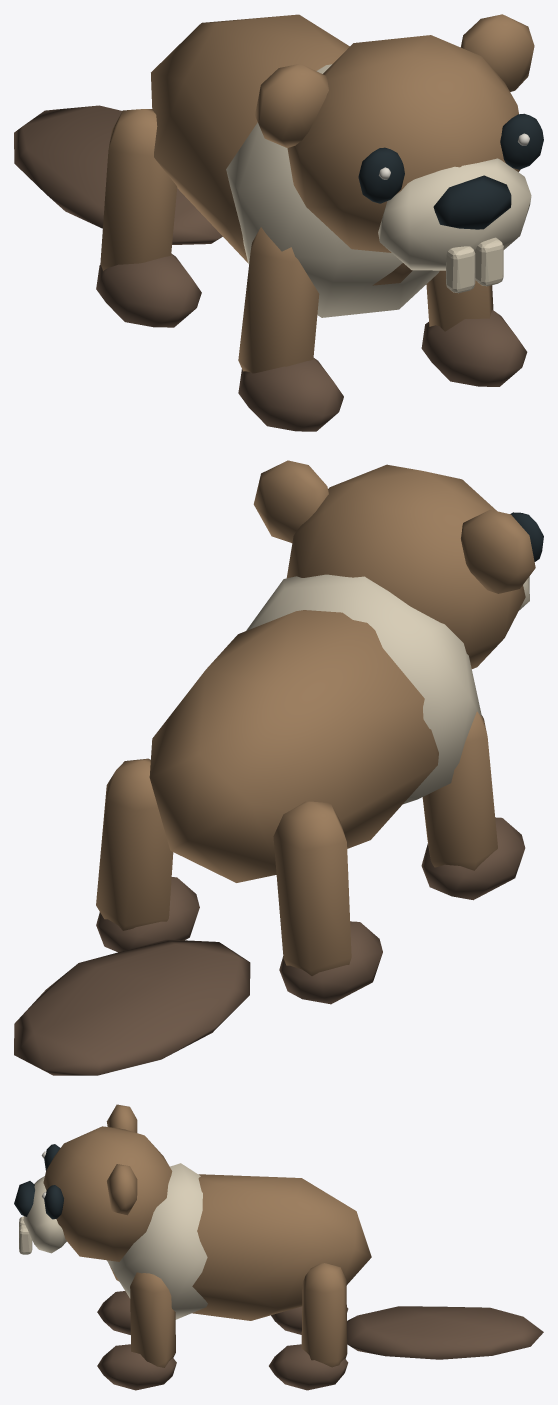
Rendered from org_beaver.glb.
3 views of the same model, one above another, from view 1: azimuth 30°, elevation 25°; view 2: azimuth 150°, elevation 25°; view 3: azimuth 270°, elevation 25° (orthographic). The views are drawn at different scales.
Parts seen in each view (by area): view 1: Head, Body, Leg_BR, Leg_FR, Tail, Leg_FL, Eye_R, Eye_L; view 2: Body, Head, Tail, Leg_BR, Leg_BL, Leg_FR; view 3: Body, Head, Tail, Leg_BL, Leg_FL, Leg_FR, Leg_BR, Eye_L.
Part boxes in pixels (<box>): Head: <box>255,14,534,293</box>; Body: <box>151,14,439,317</box>; Leg_BR: <box>96,109,201,327</box>; Leg_FR: <box>238,227,343,431</box>; Tail: <box>14,105,222,244</box>; Leg_FL: <box>421,270,527,386</box>; Eye_R: <box>358,147,404,203</box>; Eye_L: <box>500,113,543,169</box>; Body: <box>149,574,481,882</box>; Head: <box>253,460,535,668</box>; Tail: <box>14,939,250,1075</box>; Leg_BR: <box>273,801,382,1004</box>; Leg_BL: <box>96,758,199,952</box>; Leg_FR: <box>421,711,525,900</box>; Body: <box>107,1163,371,1320</box>; Head: <box>14,1104,172,1261</box>; Tail: <box>347,1306,543,1359</box>; Leg_BL: <box>269,1263,348,1390</box>; Leg_FL: <box>97,1272,176,1390</box>; Leg_FR: <box>97,1291,130,1334</box>; Leg_BR: <box>271,1306,348,1334</box>; Eye_L: <box>42,1185,63,1219</box>.
Bounding box in the file's own units: 0.4651 × 0.5985 × 1.28.
